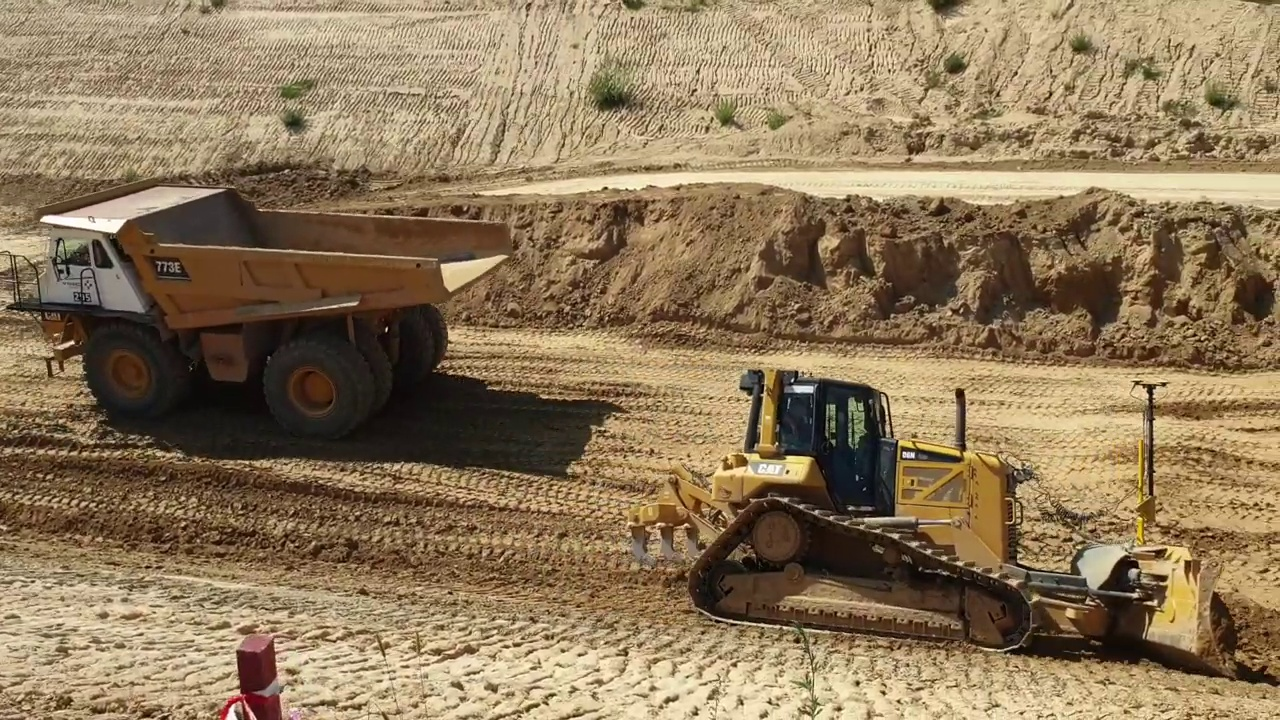bulldozer: (623, 359, 1233, 683)
truck: (2, 175, 518, 448)
